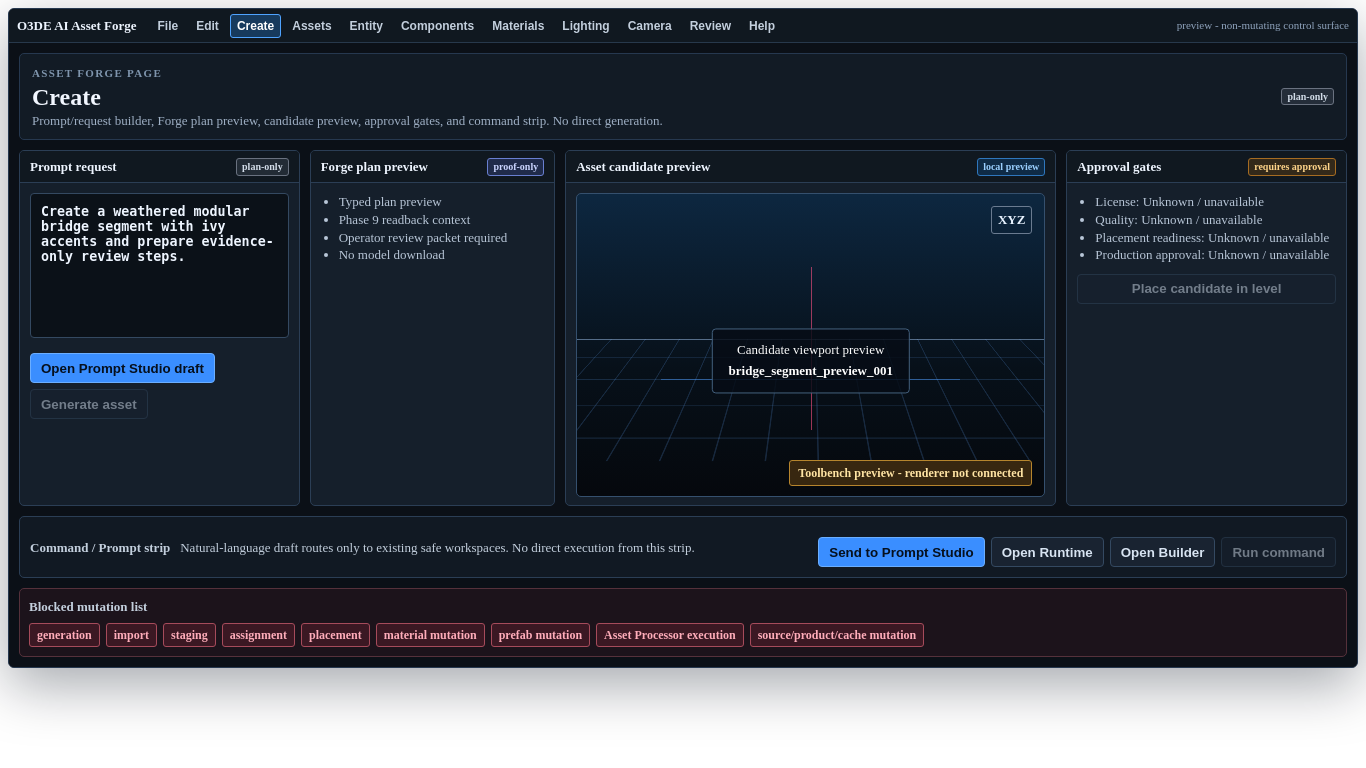
Test: AssetForgeToolbenchLayout › renders a compact left tool shelf with short labels and hidden gate text pills
Step 1. Click the button "Entity" → (366, 26), box [343, 14, 390, 38]
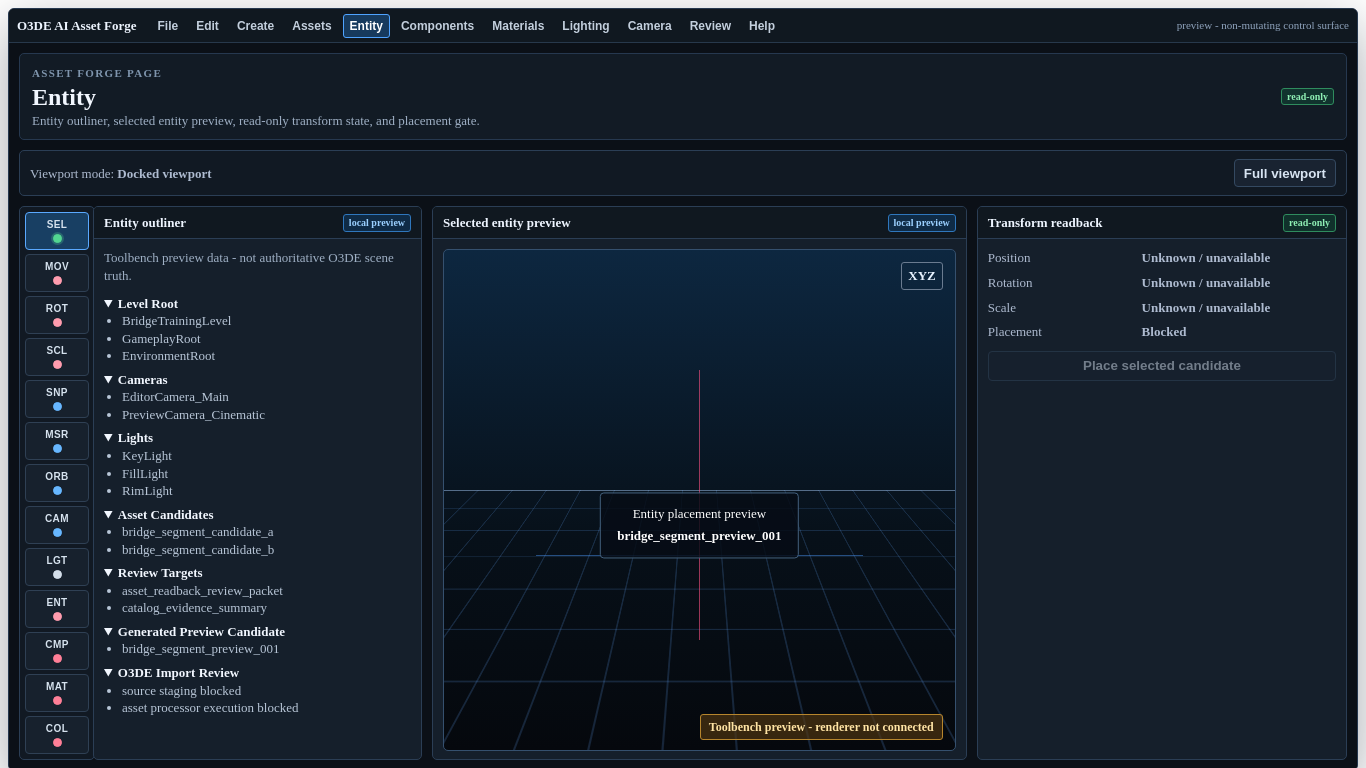
Now the text "SEL" is shown, box [47, 220, 67, 230]
Now the text "MOV" is shown, box [45, 262, 69, 272]
Now the text "ROT" is shown, box [46, 304, 68, 314]
